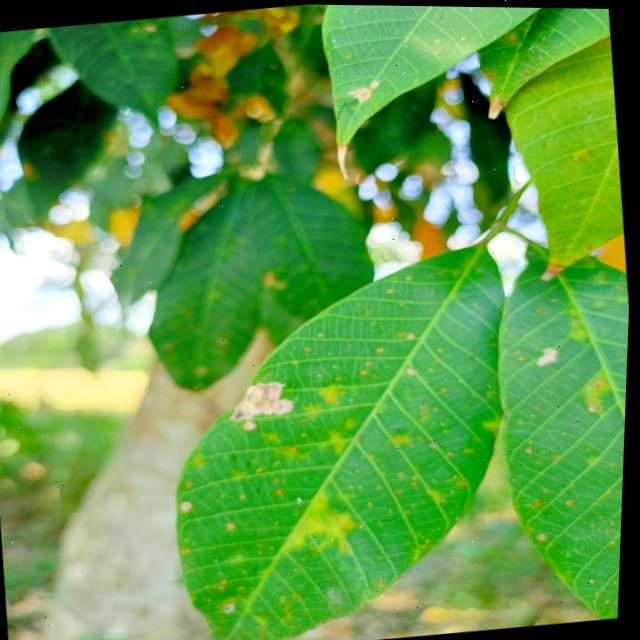Leaf-Blight: (226, 375, 300, 421), (540, 256, 567, 279)
